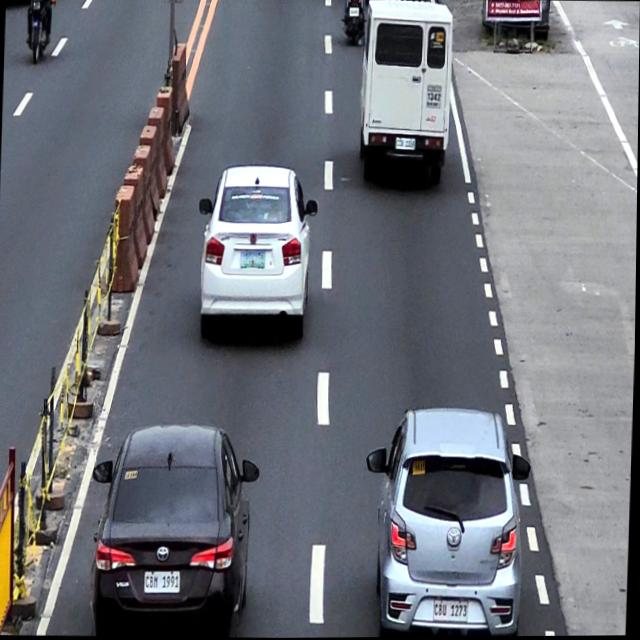Car: (363, 405, 534, 638), (90, 420, 263, 638), (195, 165, 319, 346), (357, 0, 454, 186)
License-Plate: (145, 571, 182, 594), (435, 600, 470, 624), (240, 250, 267, 269), (396, 137, 415, 150)
